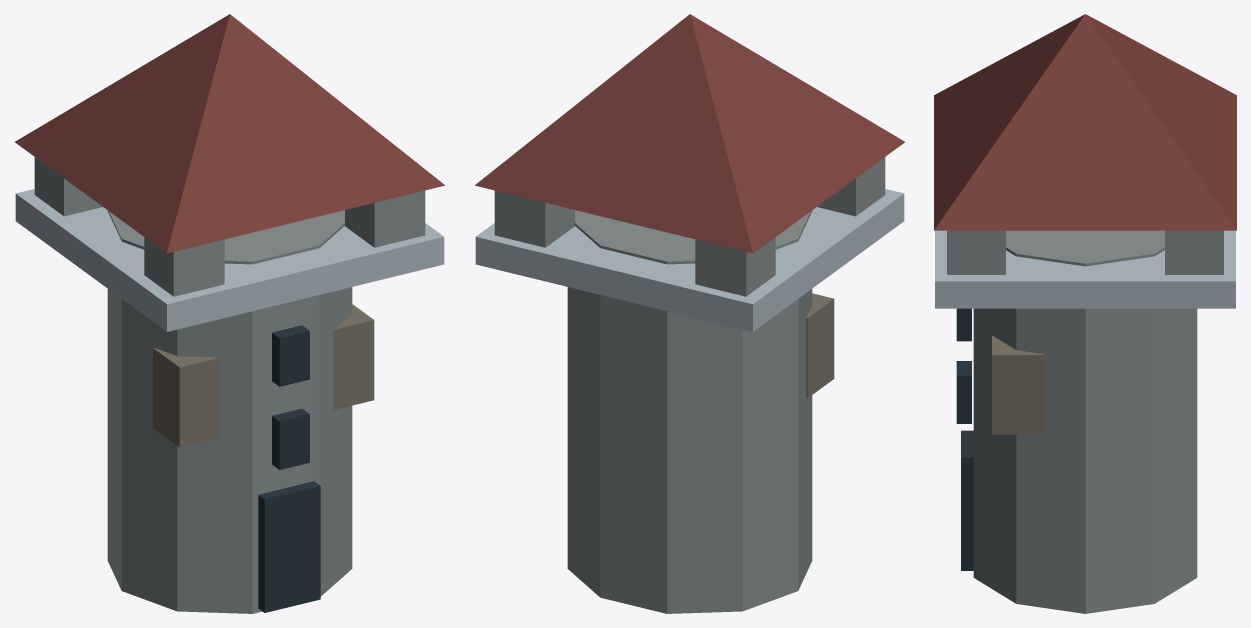
The model's file is tower.obj.
3 renders of one model, left to right at view 1: azimuth 30°, elevation 25°; view 2: azimuth 150°, elevation 25°; view 3: azimuth 270°, elevation 25°, orthographic.
Parts seen in each view (by area): view 1: tower; view 2: tower; view 3: tower.
Boxes of the visible parts, box(x1,y1,x2,y2) form: tower: box(15, 14, 444, 613); tower: box(475, 14, 904, 613); tower: box(934, 14, 1236, 613).
Bounding box in the file's own units: 2.29 × 4.33 × 2.17.
